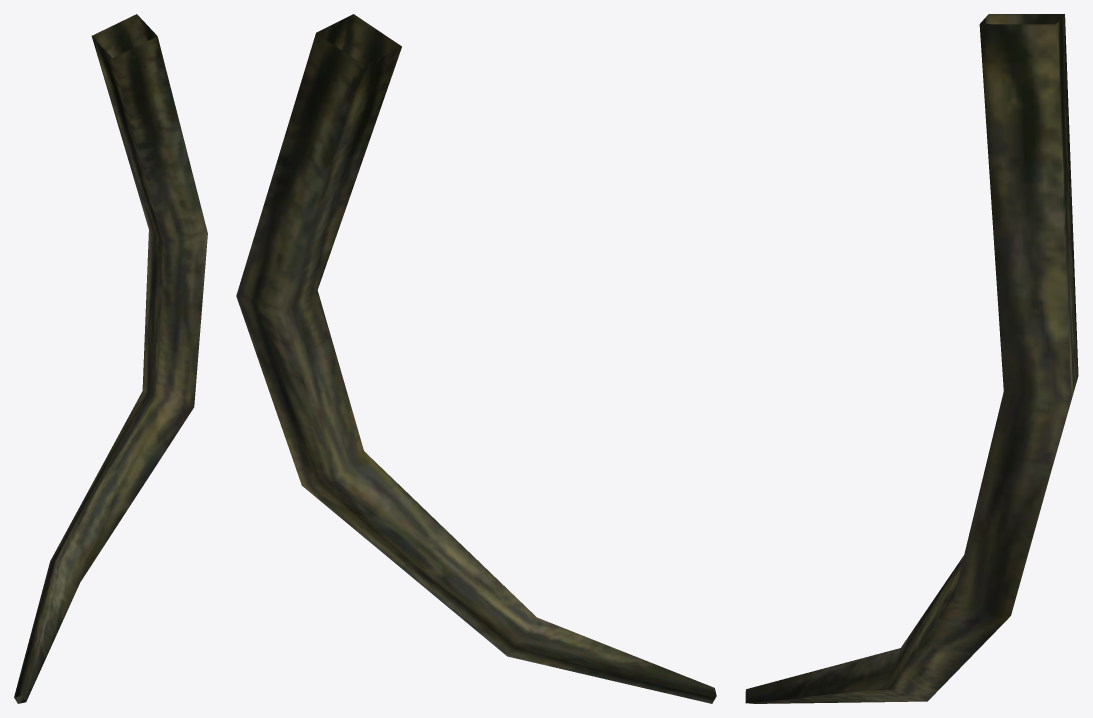
File: OVERHILL_A_01_LINE337.fbx
The picture shows the model from 3 angles, left to right: view 1: azimuth 30°, elevation 25°; view 2: azimuth 150°, elevation 25°; view 3: azimuth 270°, elevation 25°; orthographic projection. The views are drawn at different scales.
Visible parts, largest first — view 1: OVERHILL_A_01_LINE337; view 2: OVERHILL_A_01_LINE337; view 3: OVERHILL_A_01_LINE337.
Boxes of the visible parts, box(x1,y1,x2,y2) form: OVERHILL_A_01_LINE337: box(14, 14, 207, 703); OVERHILL_A_01_LINE337: box(236, 14, 716, 703); OVERHILL_A_01_LINE337: box(745, 14, 1078, 703).
Bounding box in the file's own units: 9571 × 18186 × 6537.
1 material, 1 textured.
